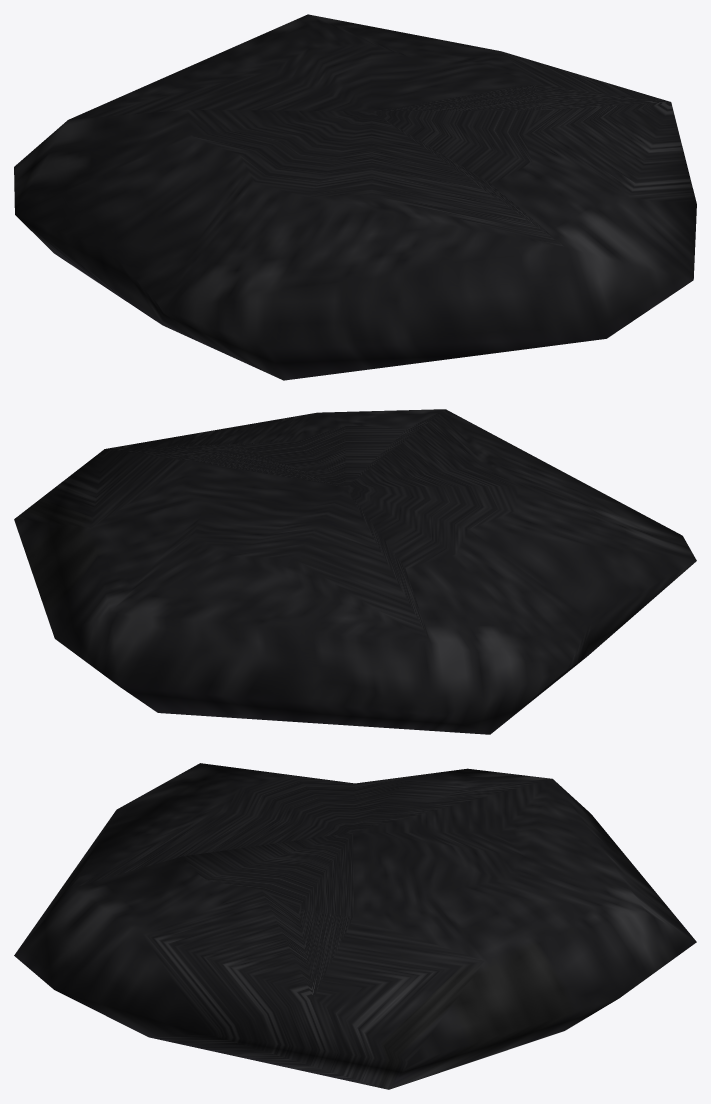
File: brittle_star_lod1.glb
3 views of the same model, one above another, from view 1: azimuth 30°, elevation 25°; view 2: azimuth 150°, elevation 25°; view 3: azimuth 270°, elevation 25° (orthographic). The views are drawn at different scales.
Visible parts, largest first — view 1: Body; view 2: Body; view 3: Body.
Boxes of the visible parts, x1=… form: Body: x1=14, y1=14, x2=696, y2=380; Body: x1=14, y1=409, x2=696, y2=734; Body: x1=14, y1=763, x2=696, y2=1089.
Size of what is drawn, in the model's own units: 0.1145 by 0.0269 by 0.1176.
1 material, 1 textured.
